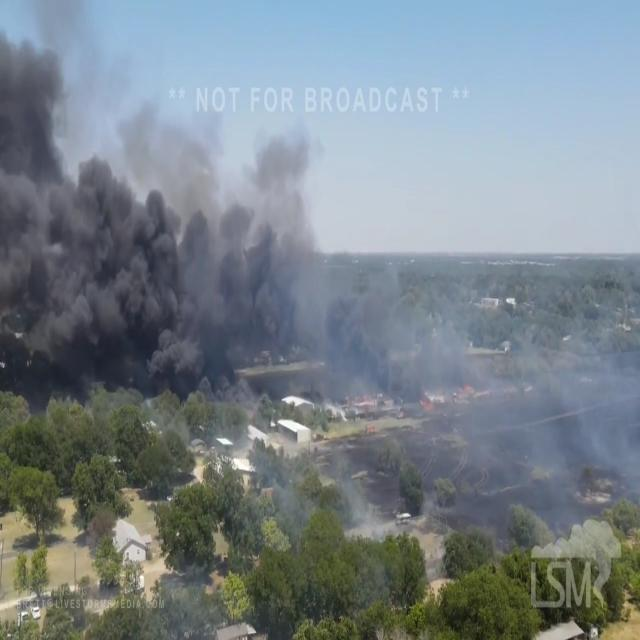Smoke: (3, 58, 304, 406)
